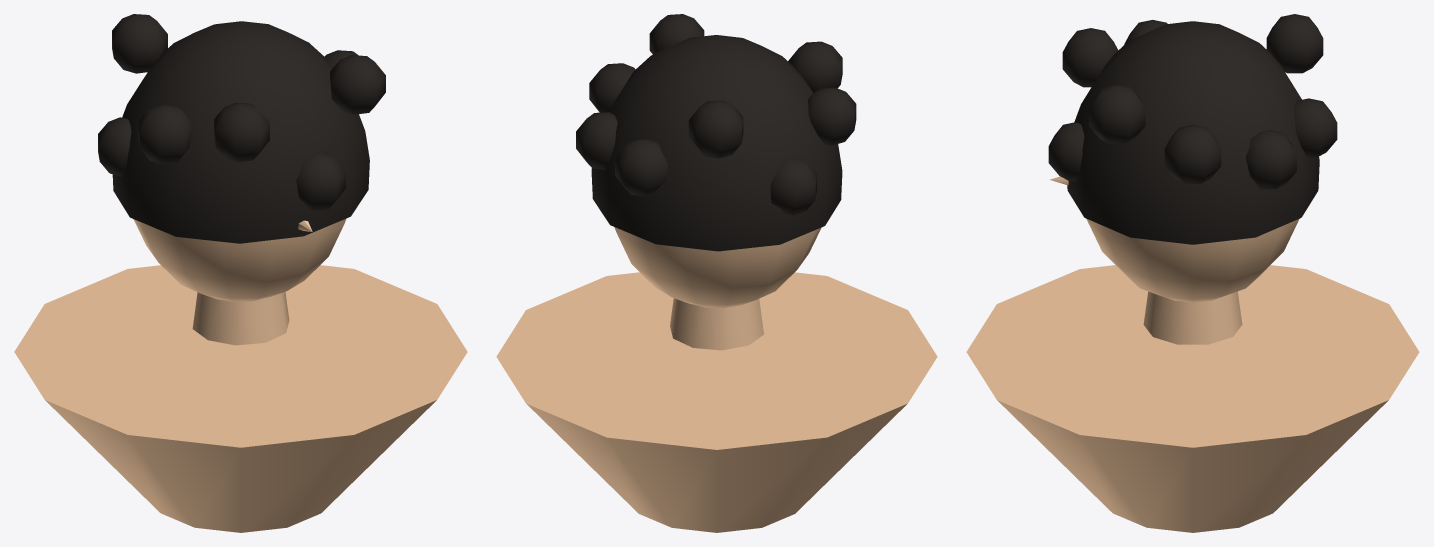
File: raw_002.glb
The picture shows the model from 3 angles, left to right: view 1: azimuth 30°, elevation 25°; view 2: azimuth 150°, elevation 25°; view 3: azimuth 270°, elevation 25°; orthographic projection. The views are drawn at different scales.
Size of the model in its own units: 1.93 by 2.17 by 1.93.
